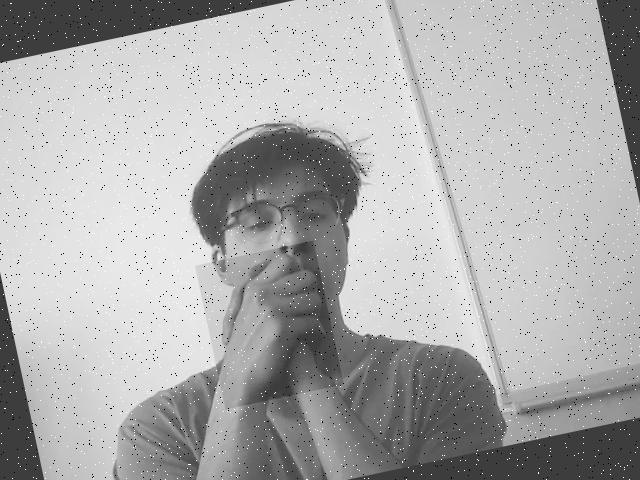friend: (216, 252, 329, 401)
